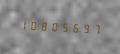eight: (37, 18, 46, 33)
five: (57, 19, 66, 34)
nine: (77, 20, 86, 35)
one: (17, 17, 26, 32)
seven: (87, 21, 96, 35)
six: (67, 20, 76, 34)
zero: (27, 18, 36, 32), (47, 19, 56, 33)
